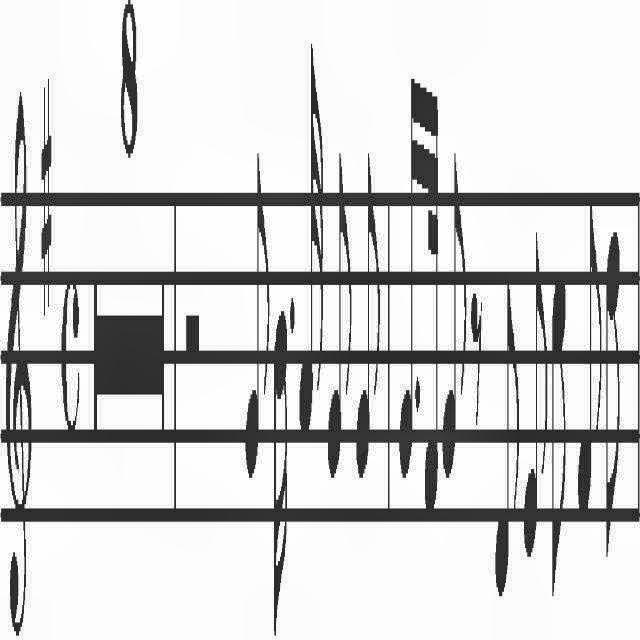Bass-clef: (2, 68, 32, 640)
Diez: (38, 57, 56, 356)
Eighth-note: (242, 110, 272, 538), (576, 172, 604, 560), (522, 215, 550, 578), (494, 240, 522, 588), (354, 154, 382, 493), (443, 142, 467, 500), (328, 152, 352, 472), (550, 252, 570, 604), (605, 212, 623, 588)
Eighth-rest: (468, 272, 484, 444)
Sixteenth-note: (397, 31, 415, 496), (270, 300, 290, 640)
